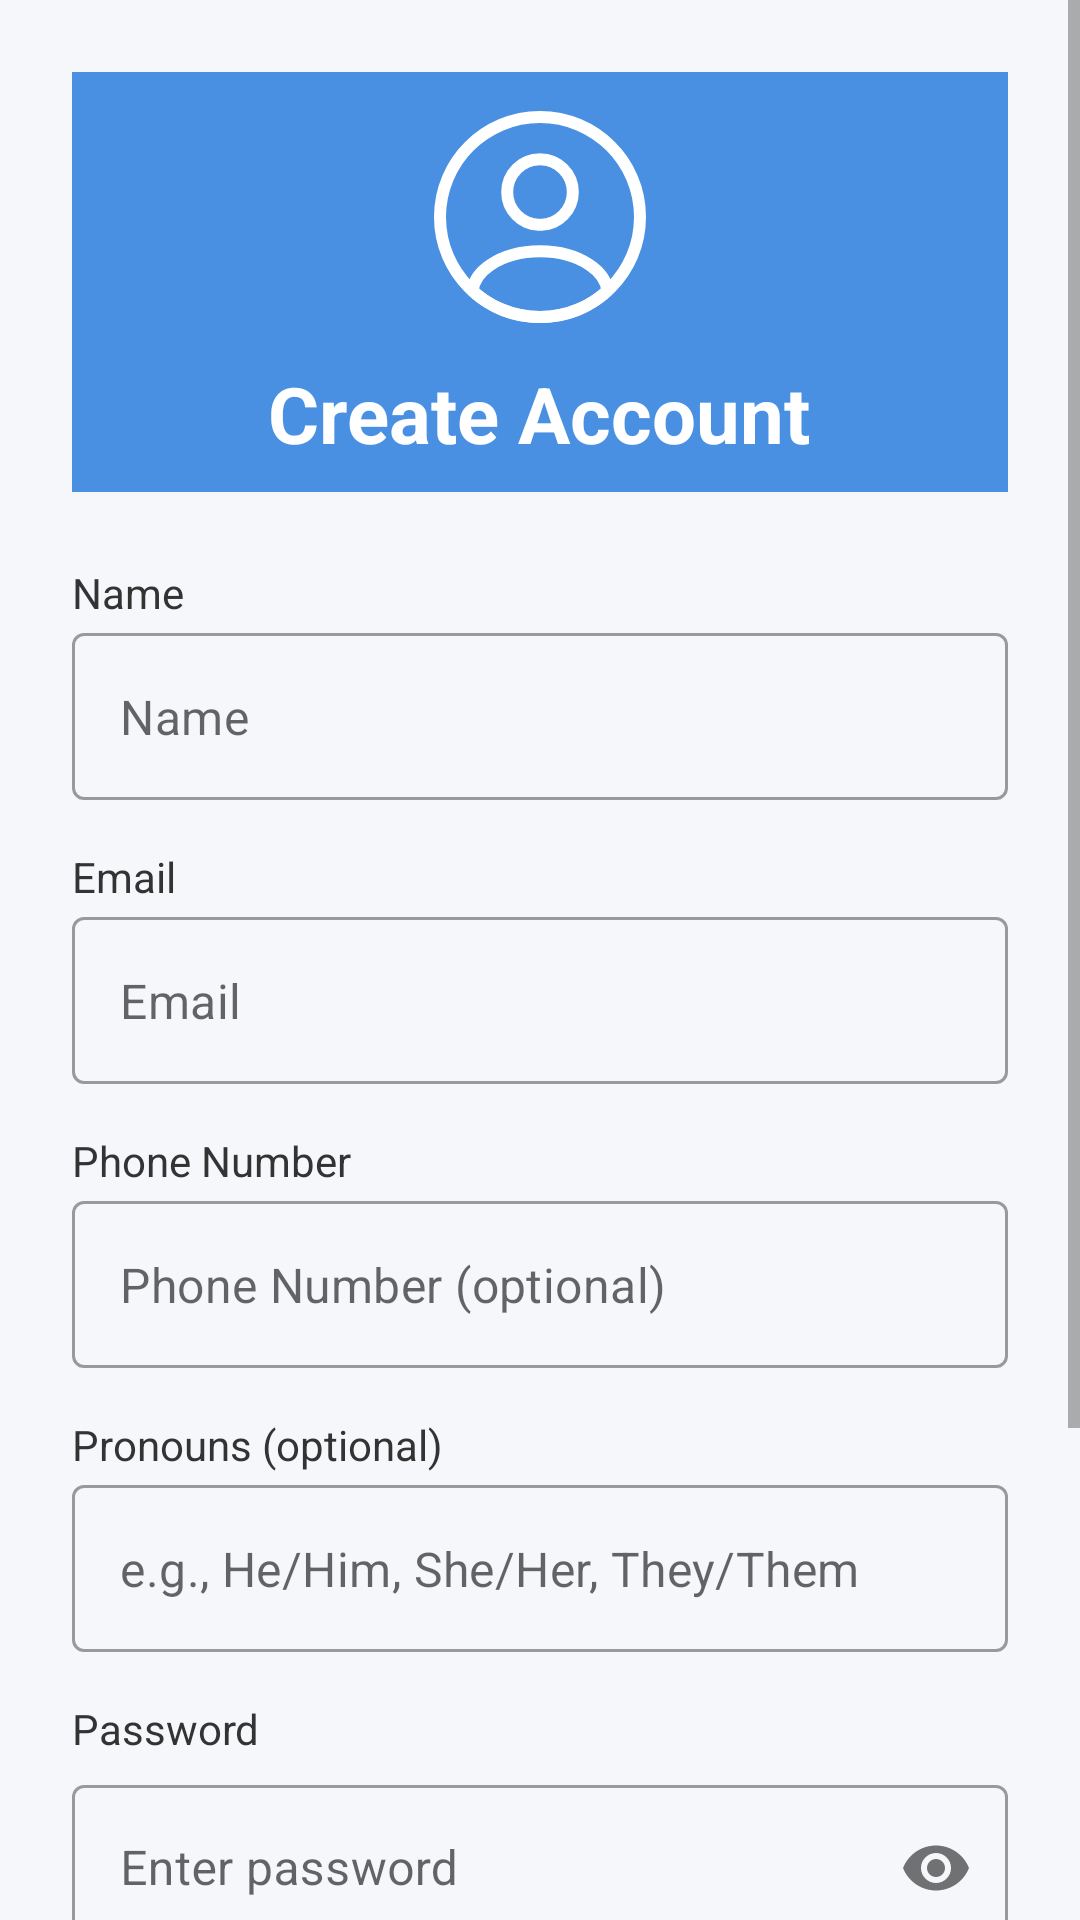

Icon bounding boxes for this 1080px×1920px phone screenshot, format (x1, y1, x2, y2):
Profile Icon: (434, 111, 646, 323)
